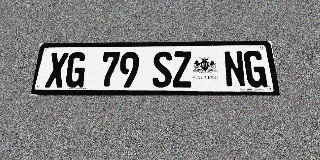7: (99, 52, 120, 88)
9: (119, 52, 139, 88)
G: (243, 51, 268, 87), (64, 52, 87, 88)
N: (223, 51, 246, 87)
S: (152, 51, 172, 88)
X: (45, 52, 69, 88)
Z: (173, 51, 193, 88)
